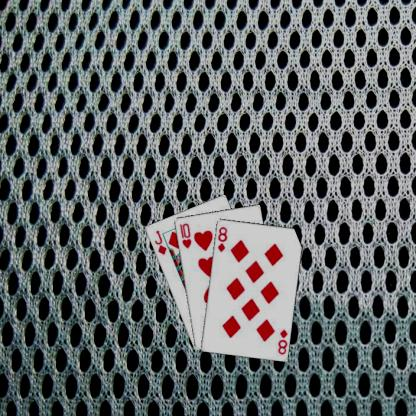10H: (177, 220, 192, 250)
8D: (215, 224, 228, 253), (276, 326, 288, 355)
JD: (152, 227, 167, 256)
